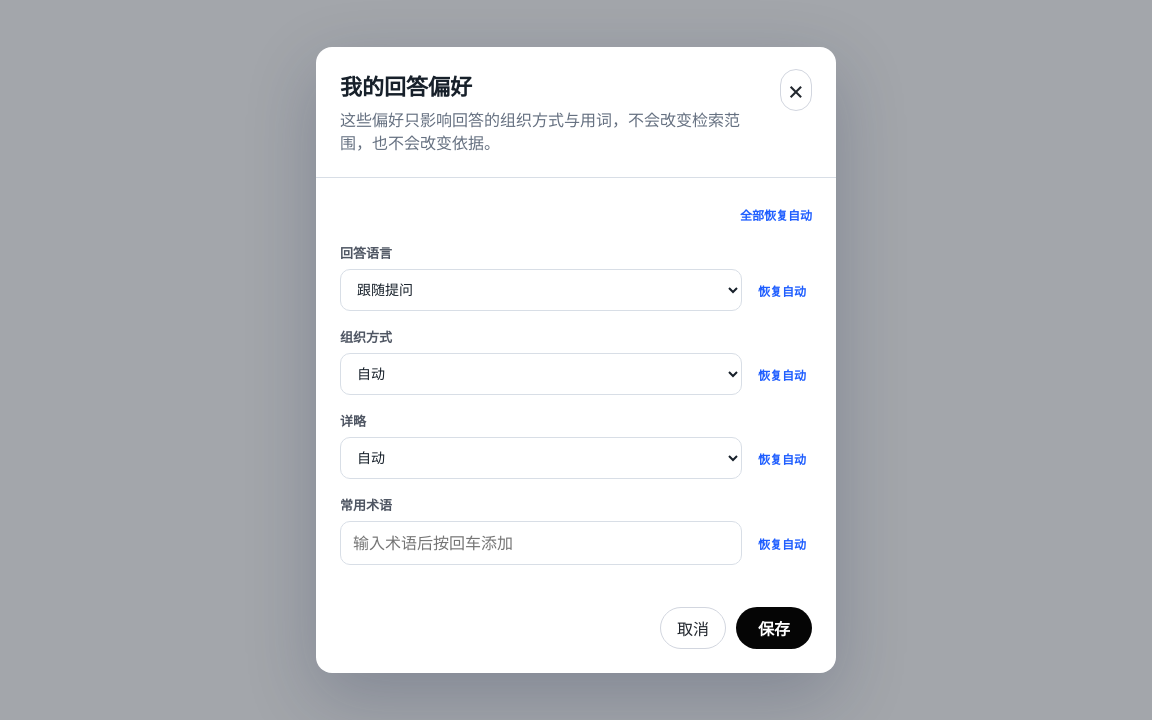
术语标签输入:回车添加,点击移除,超长/重复被拒并提示
In the field named "常用术语": (541, 543) [340,521,742,565], type "PPA"
Then press Enter
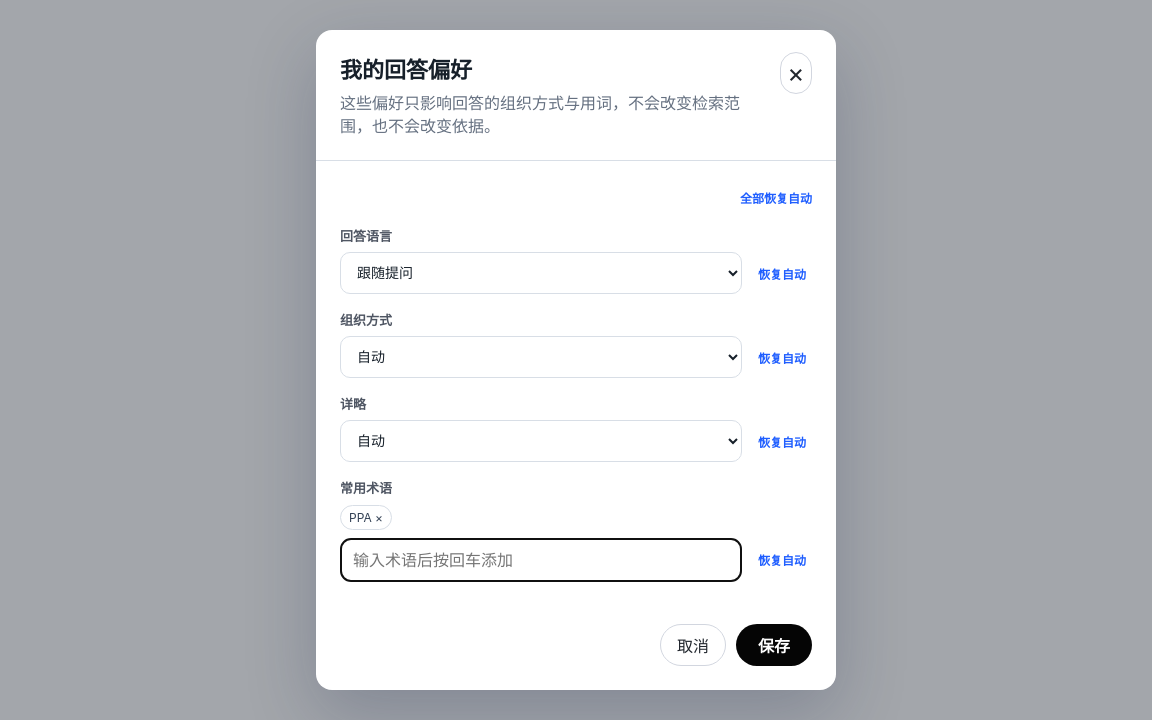
expect the button "PPA ×" is shown: met, box [340,505,392,530]
In the field named "常用术语": (541, 560) [340,538,742,582], type "PPA"
Then press Enter
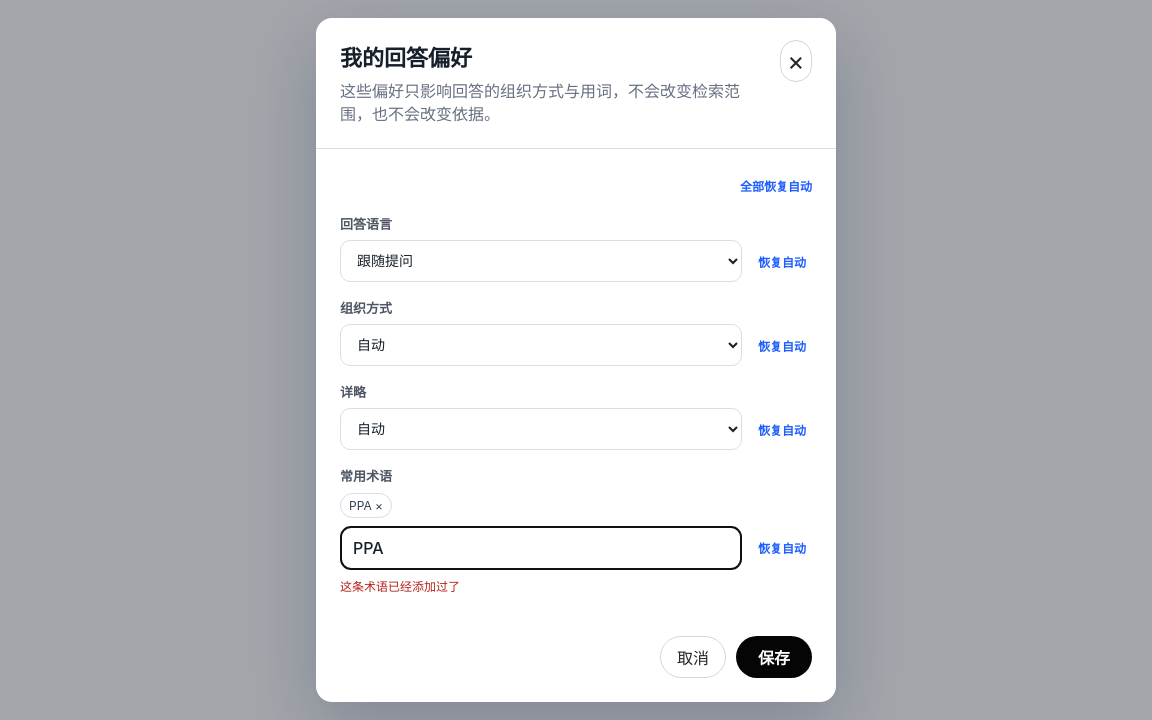
expect the text "这条术语已经添加过了" is shown: met, box [340,579,460,594]
Click the button "PPA ×": click(366, 505) [340,492,392,517]
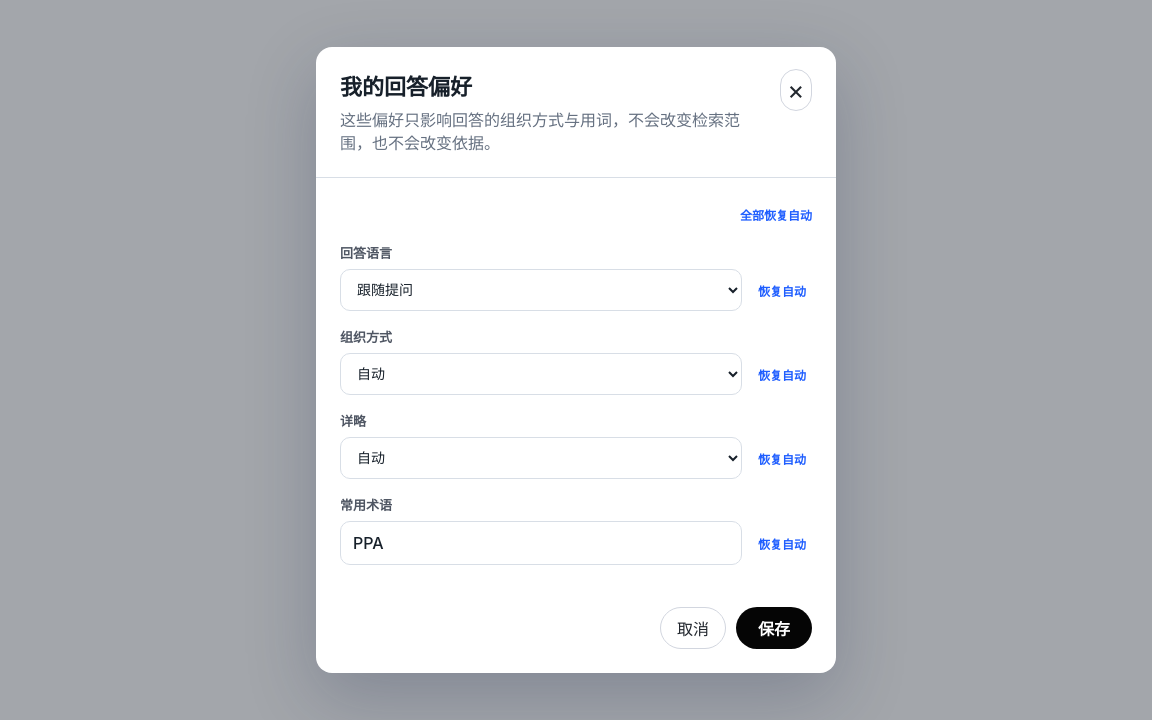
expect the button "PPA ×" is gone: met
